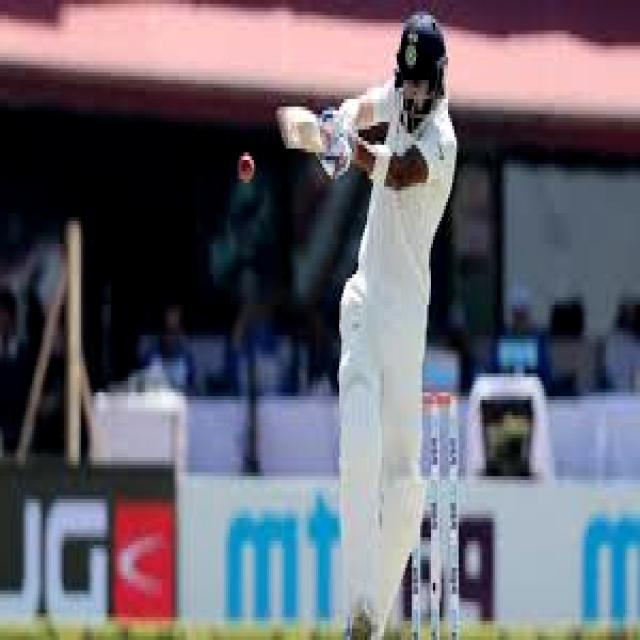toe: (270, 105, 296, 152)
